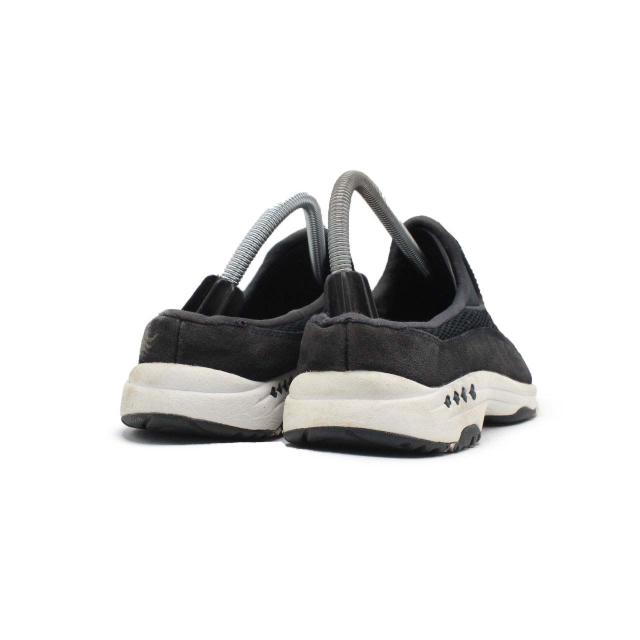heel: (129, 312, 295, 379), (300, 320, 445, 383)
midsole: (280, 371, 536, 448), (119, 361, 293, 437)
